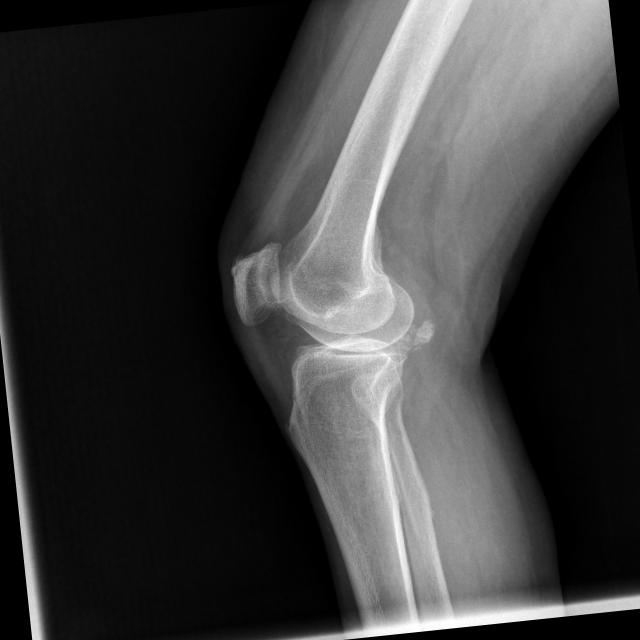Knee: (225, 228, 425, 422)
